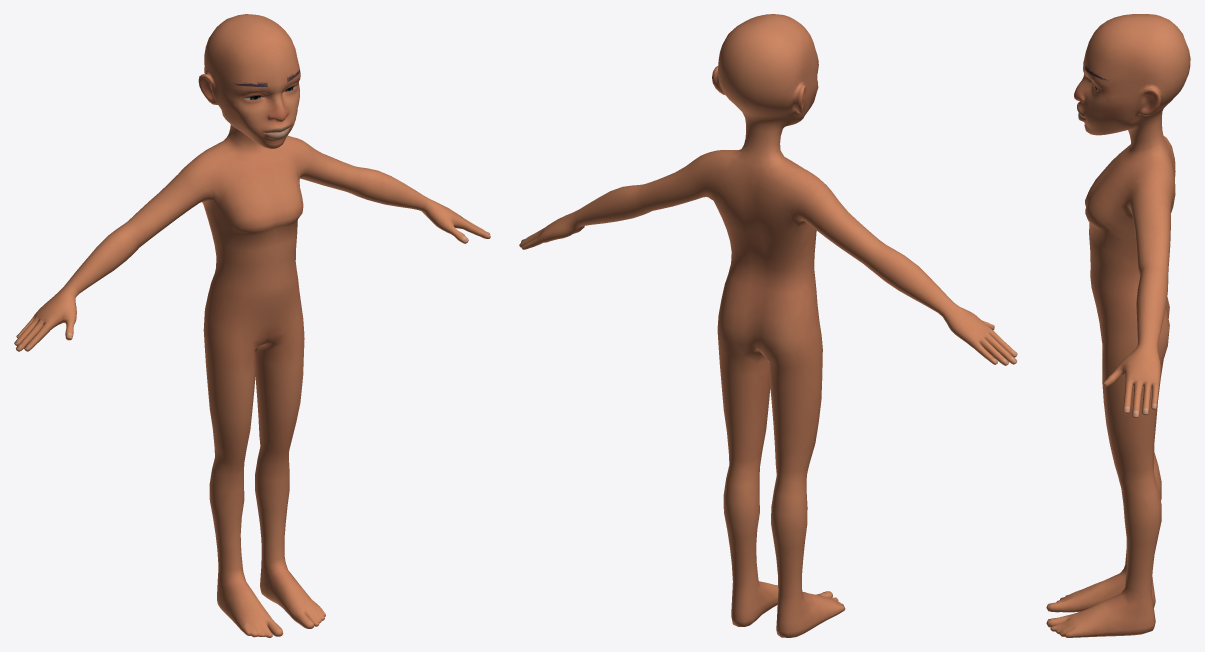
Rendered from frame_0040.glb.
3 views of the same model, side by side, from view 1: azimuth 30°, elevation 25°; view 2: azimuth 150°, elevation 25°; view 3: azimuth 270°, elevation 25° (orthographic). The views are drawn at different scales.
Visible parts, largest first — view 1: frame_0040_head_geo; view 2: frame_0040_head_geo; view 3: frame_0040_head_geo.
Boxes of the visible parts, bbox=[...] form: frame_0040_head_geo: bbox=[14, 14, 490, 637]; frame_0040_head_geo: bbox=[519, 14, 1017, 637]; frame_0040_head_geo: bbox=[1046, 14, 1190, 637].
Bounding box in the file's own units: 1.28 × 1.5 × 0.3253.
3 materials, 3 textured.
